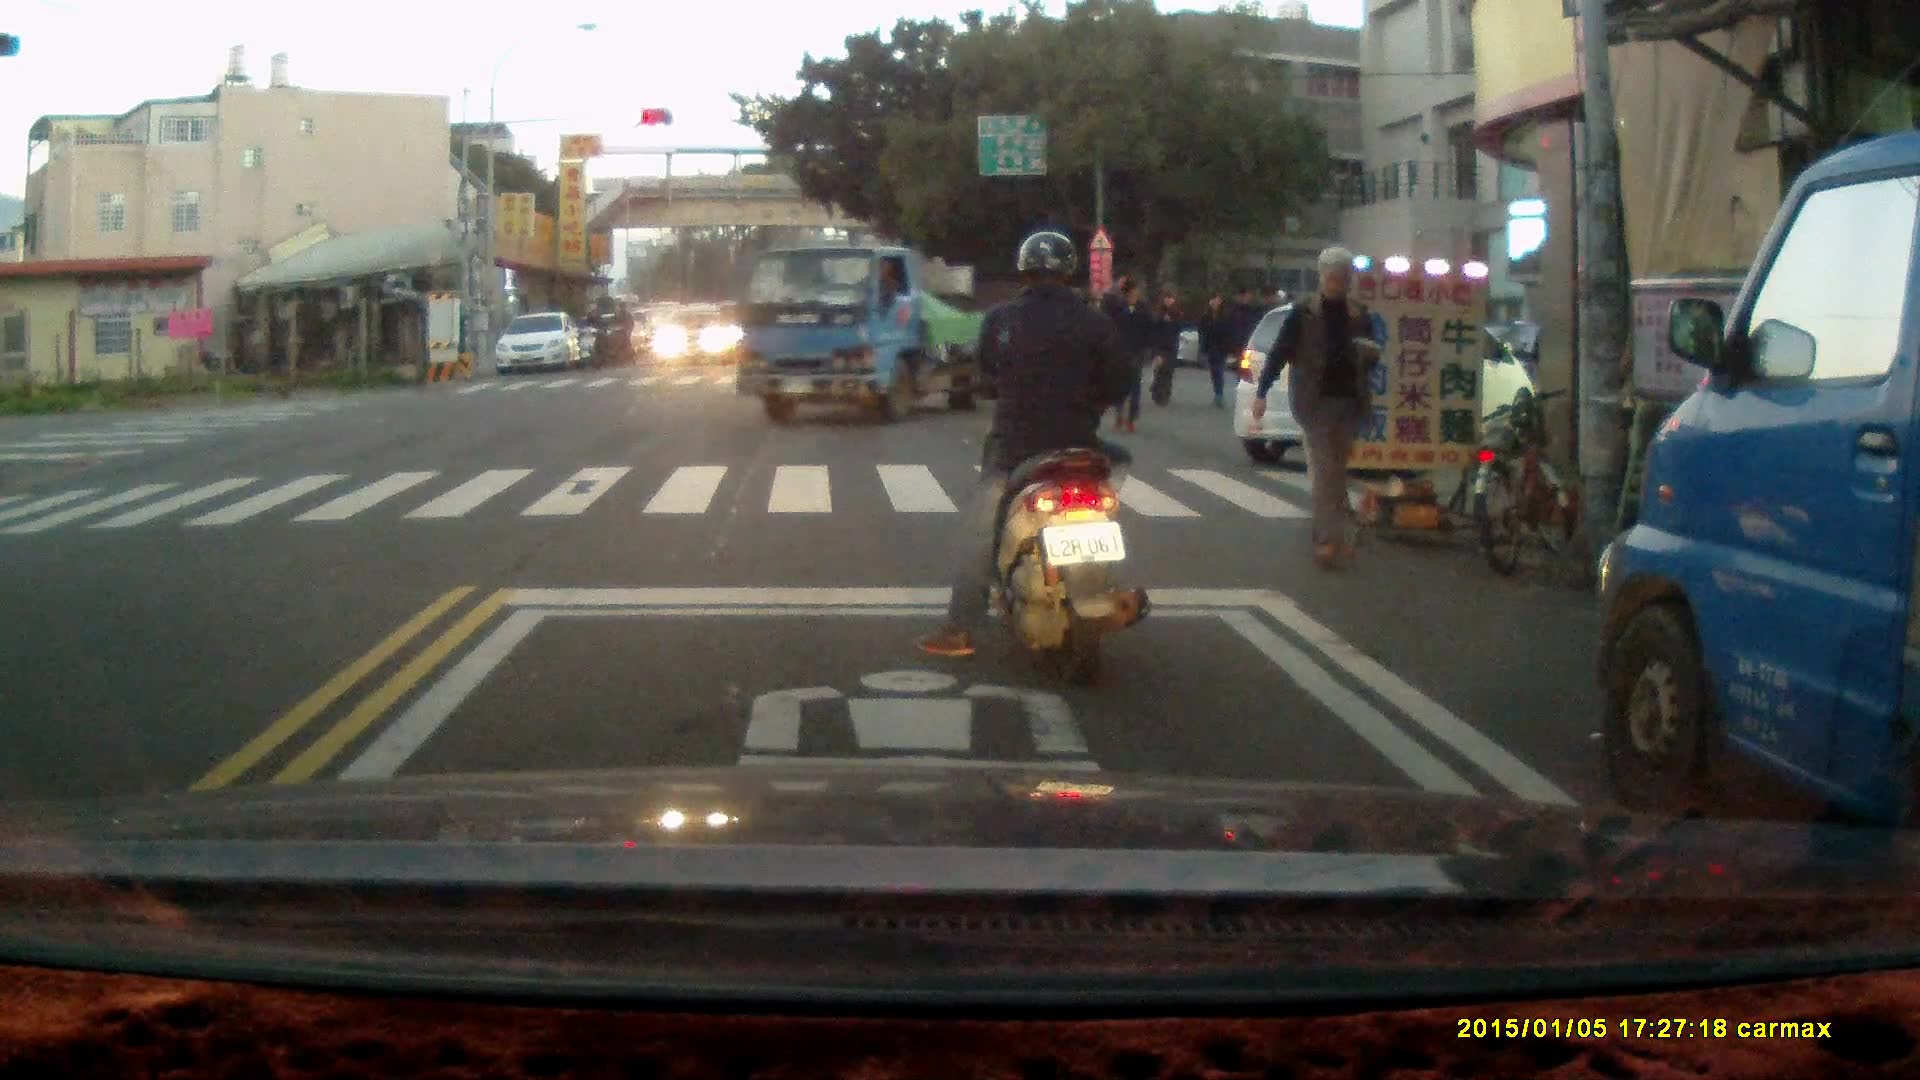pedestrian: (1256, 245, 1380, 570), (1095, 273, 1157, 436), (1151, 289, 1191, 413), (1194, 288, 1232, 412)
rider: (918, 226, 1150, 691), (577, 301, 612, 372), (600, 296, 634, 365)
vehicle: (1596, 120, 1920, 901), (733, 242, 1017, 424), (1236, 303, 1533, 462), (652, 298, 738, 369), (493, 311, 584, 378)
